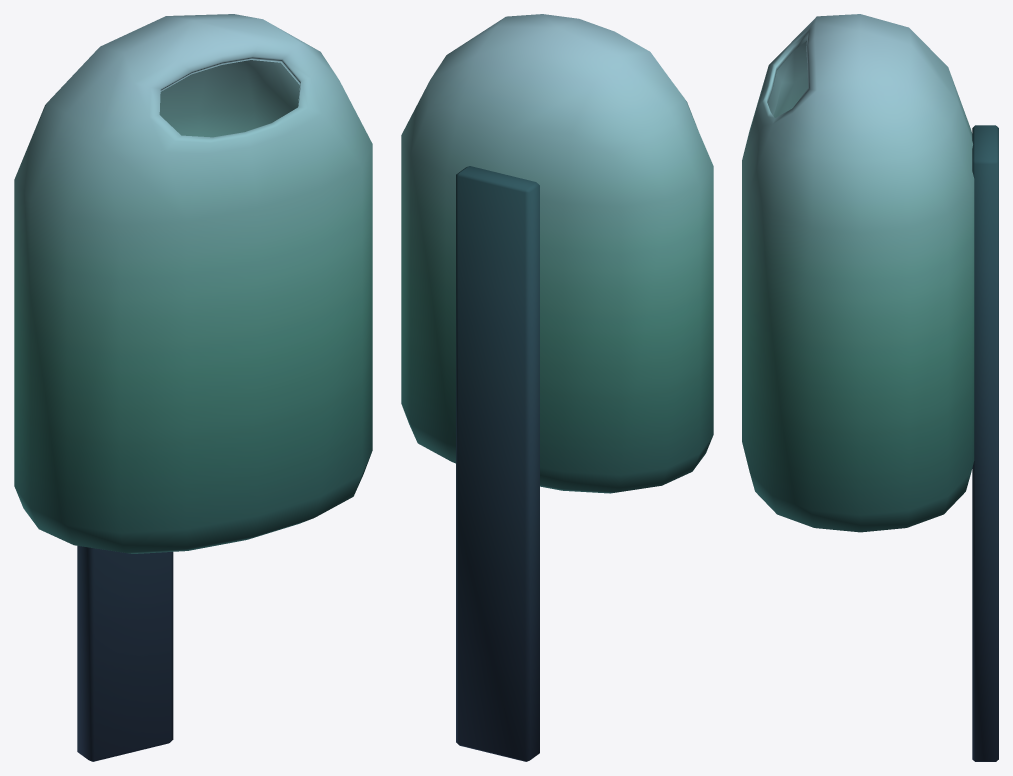
Rendered from SM_TrashCan.fbx.
3 renders of one model, left to right at view 1: azimuth 30°, elevation 25°; view 2: azimuth 150°, elevation 25°; view 3: azimuth 270°, elevation 25°, orthographic. The views are drawn at different scales.
Visible parts, largest first — view 1: Cube.001; view 2: Cube.001; view 3: Cube.001.
Part boxes in pixels (x1,y1,x2,y2): Cube.001: [14, 14, 372, 761]; Cube.001: [401, 14, 713, 761]; Cube.001: [742, 14, 998, 761].
Size of the model in its own units: 65.44 by 149 by 48.66.
